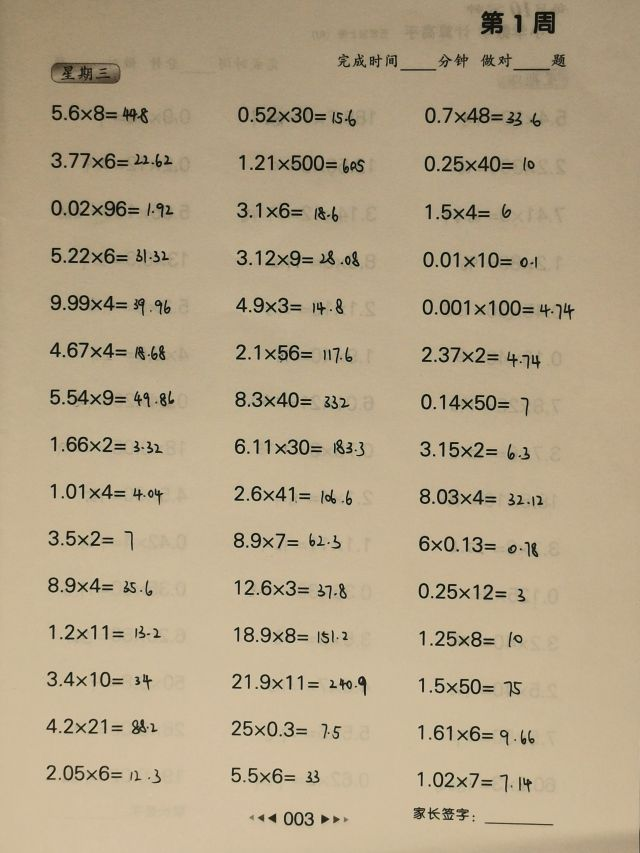equation: (417, 294, 578, 321), (227, 670, 369, 697), (229, 433, 368, 460), (412, 767, 539, 796), (235, 149, 368, 176), (417, 342, 545, 370), (46, 385, 177, 411), (46, 195, 177, 221), (233, 101, 359, 128), (231, 340, 356, 367), (414, 532, 543, 558), (420, 102, 544, 129), (46, 291, 174, 317), (231, 245, 363, 270), (415, 484, 546, 509), (47, 148, 176, 173), (43, 760, 164, 786), (416, 389, 532, 416), (414, 721, 539, 746), (47, 243, 172, 268), (45, 338, 169, 363), (230, 387, 353, 412), (419, 247, 542, 272), (230, 482, 356, 506), (231, 293, 347, 319), (47, 99, 154, 127), (414, 579, 529, 605), (420, 151, 539, 176), (42, 713, 160, 738), (43, 666, 156, 692), (229, 623, 351, 647), (416, 437, 533, 462), (233, 197, 341, 224), (229, 576, 350, 600), (47, 480, 166, 504), (47, 432, 166, 456), (228, 528, 345, 552), (227, 717, 343, 741), (46, 621, 165, 644), (43, 574, 156, 598), (416, 627, 527, 651), (415, 674, 525, 698), (45, 527, 138, 554), (227, 763, 324, 788), (422, 200, 515, 224)
